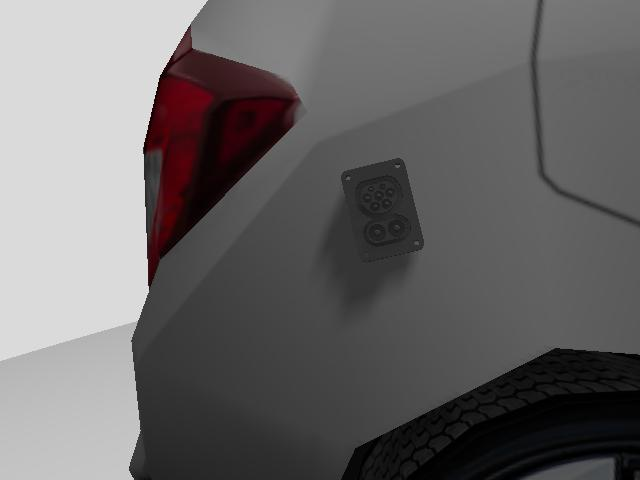EV-socket: (339, 156, 430, 265)
